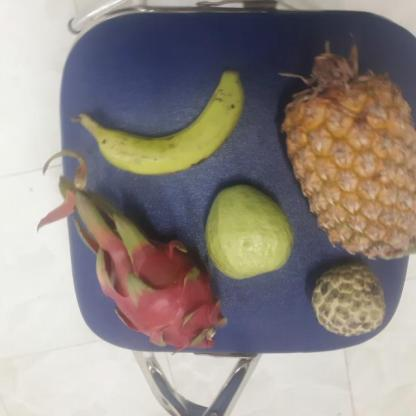annona: (309, 262, 385, 335)
banana: (74, 75, 243, 174)
guava: (199, 188, 294, 277)
pitaya: (98, 230, 223, 350)
